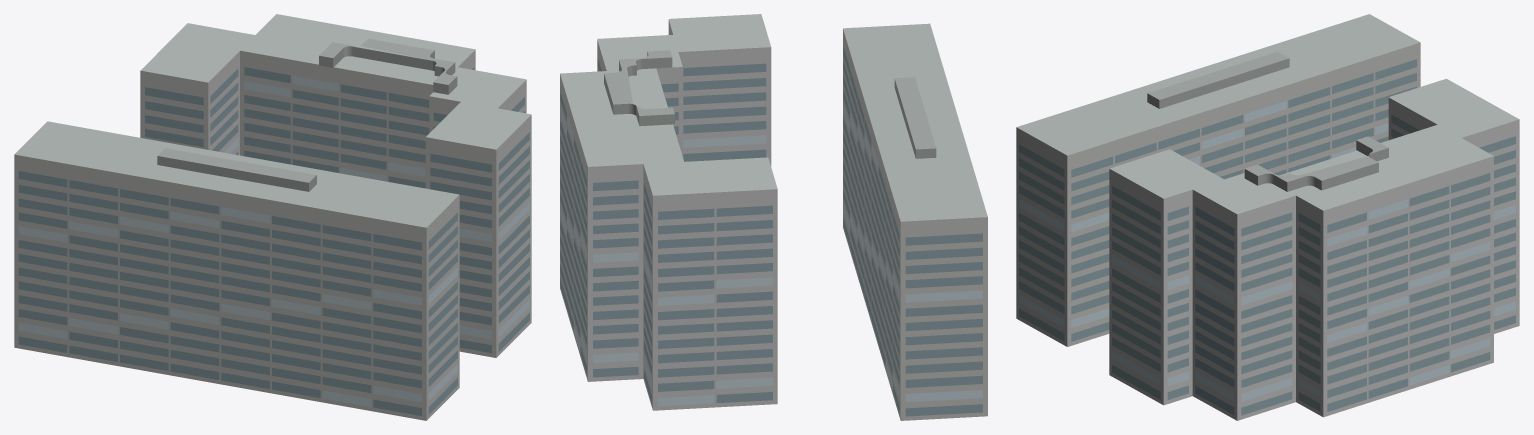
The model's file is apt-a14082601.glb.
3 renders of one model, left to right at view 1: azimuth 30°, elevation 25°; view 2: azimuth 150°, elevation 25°; view 3: azimuth 270°, elevation 25°, orthographic. The views are drawn at different scales.
Parts seen in each view (by area): view 1: apt-a14082601; view 2: apt-a14082601; view 3: apt-a14082601.
Part boxes in pixels (x1,y1,x2,y2): apt-a14082601: (14,14,531,420); apt-a14082601: (560,14,987,420); apt-a14082601: (1016,14,1519,420).
Size of the model in its own units: 87.61 by 41 by 86.44.
